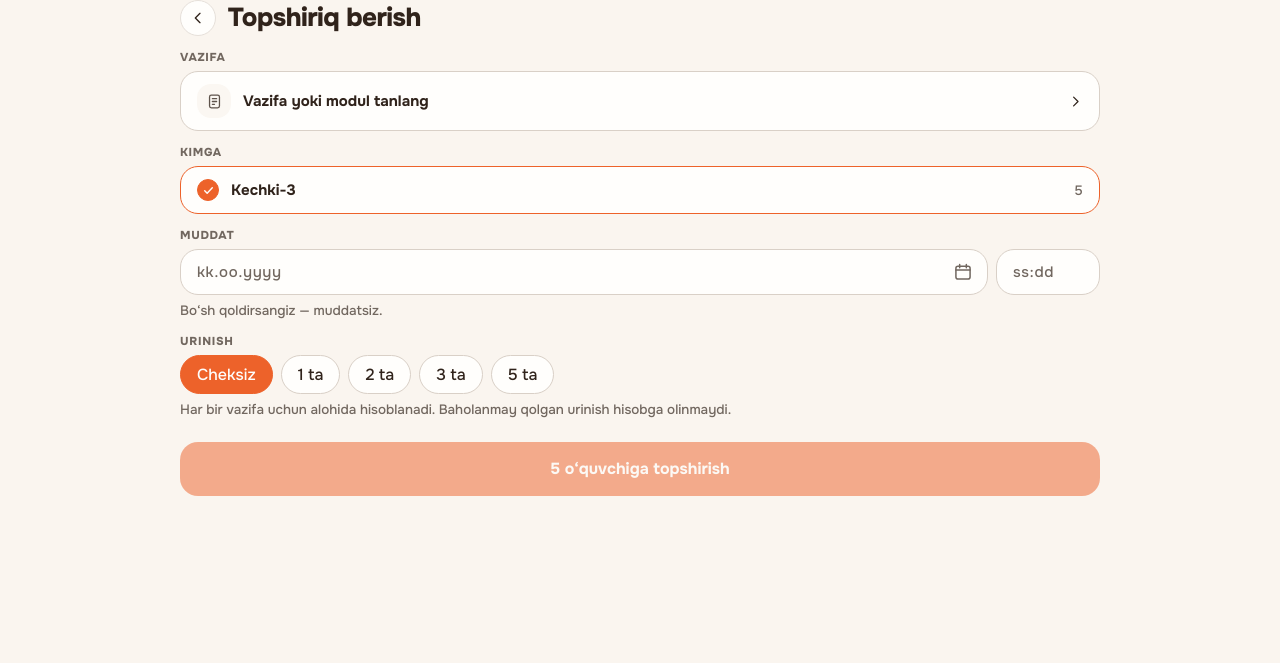
Test: the official catalog › filters by the search box — a module name keeps its tasks, a task name keeps its module
Click the button "Vazifa yoki modul tanlang": {"x": 214, "y": 101} [180,71,1100,131]
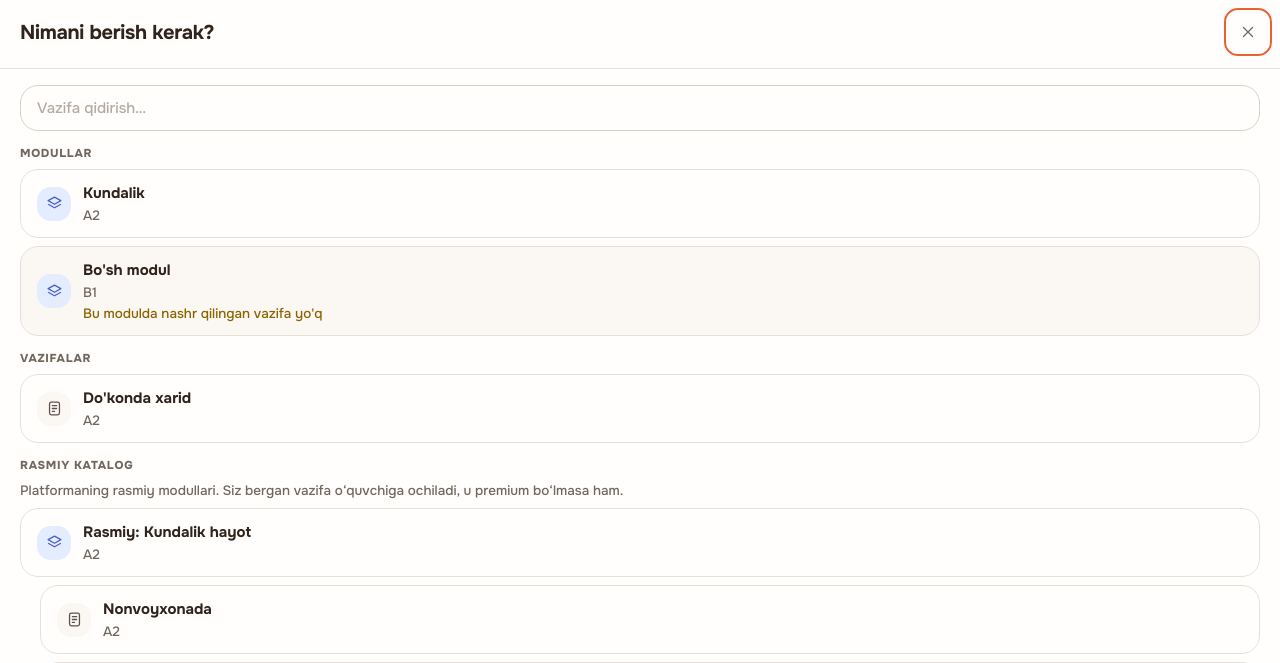
In the search field: {"x": 640, "y": 108} [21,86,1259,130], type "metro"
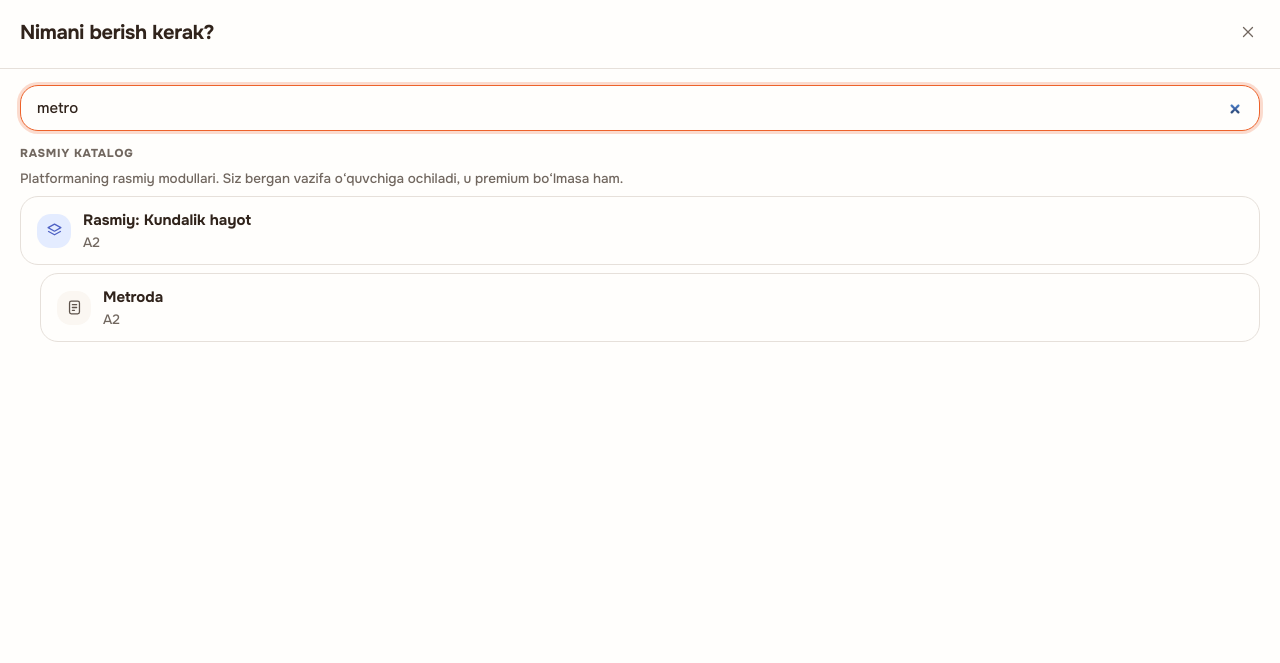
expect the button "Metroda A2" is shown: met, box [40,273,1260,342]
expect the button "Rasmiy: Kundalik hayot A2" is shown: met, box [20,196,1260,265]
expect the button "Nonvoyxonada" is gone: met
